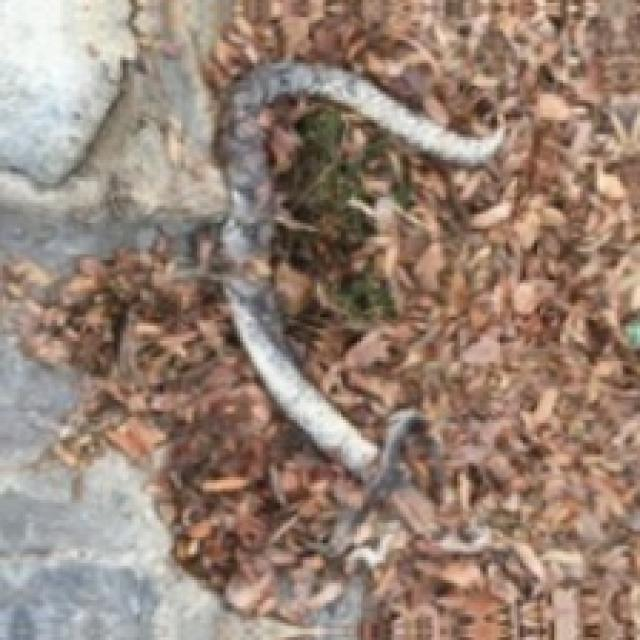reticulated python: (223, 60, 503, 531)
